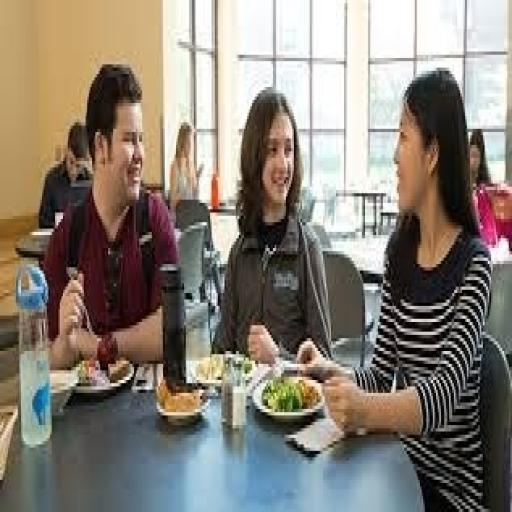eating: (40, 58, 182, 370)
